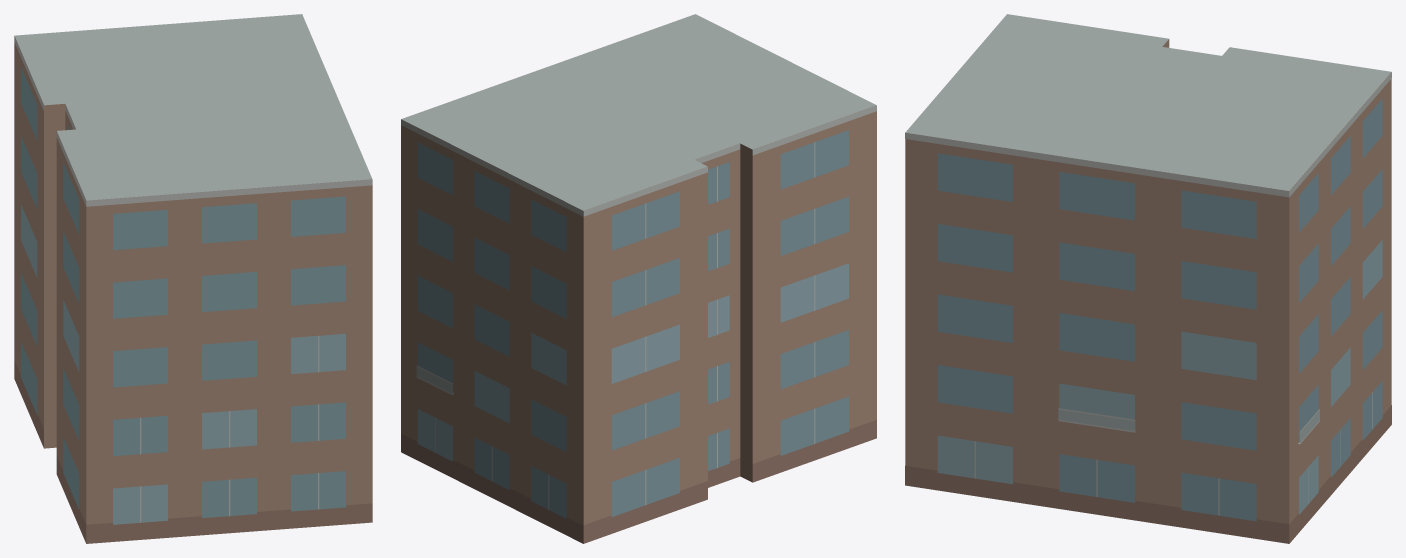
The model's file is survey-upis-32552828.glb.
The picture shows the model from 3 angles, left to right: view 1: azimuth 30°, elevation 25°; view 2: azimuth 150°, elevation 25°; view 3: azimuth 270°, elevation 25°; orthographic projection. The views are drawn at different scales.
Visible parts, largest first — view 1: survey-upis-32552828.tmp; view 2: survey-upis-32552828.tmp; view 3: survey-upis-32552828.tmp.
Boxes of the visible parts, left/top/right/bottom form: survey-upis-32552828.tmp: left=14, top=14, right=372, bottom=543; survey-upis-32552828.tmp: left=401, top=14, right=876, bottom=543; survey-upis-32552828.tmp: left=905, top=14, right=1391, bottom=543.
Bounding box in the file's own units: 14.7 × 13.65 × 17.08.
